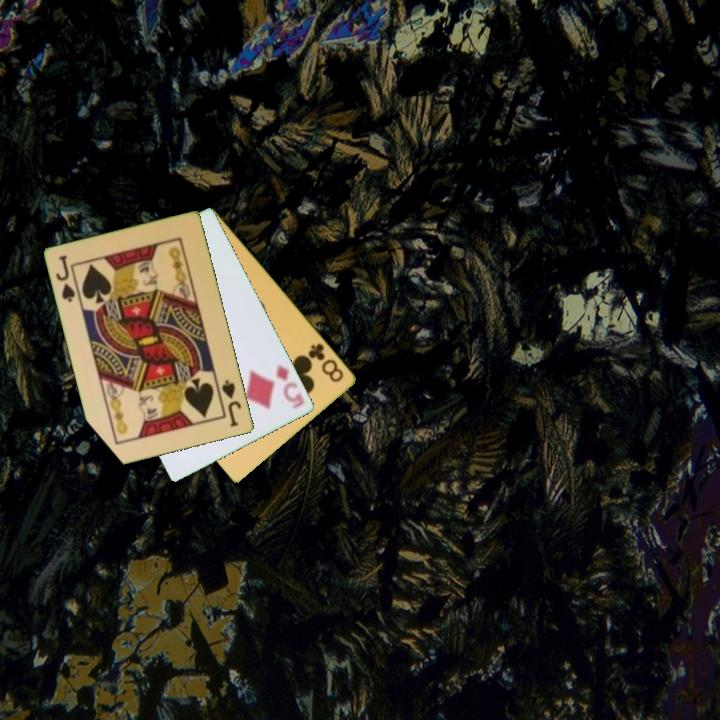5d: (272, 361, 308, 411)
8c: (305, 340, 347, 385)
Js: (218, 376, 244, 430), (53, 252, 79, 305)
